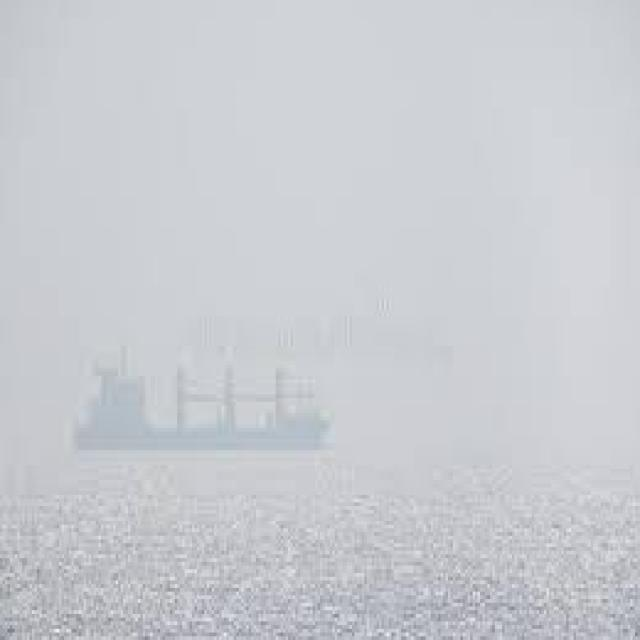cargoship: (70, 344, 332, 454)
